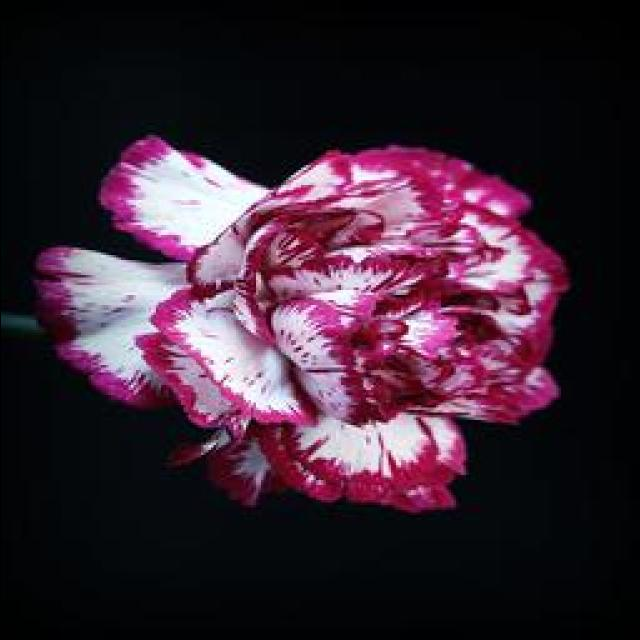carnation: (29, 127, 576, 527)
